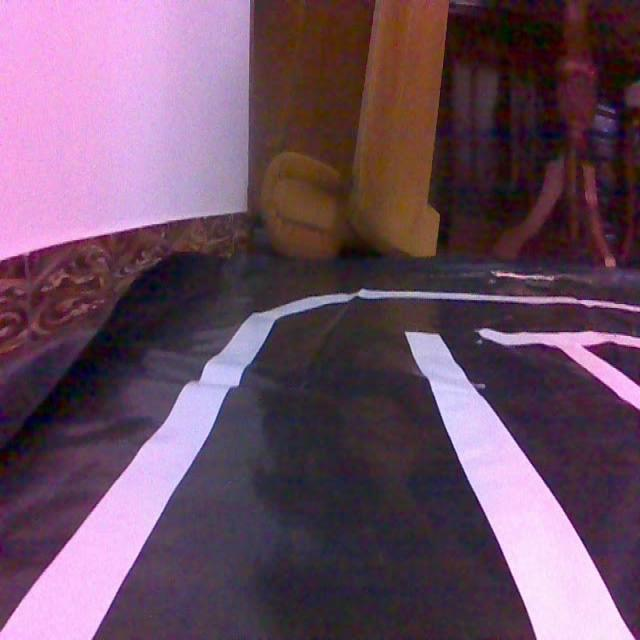LineaCarril: (0, 290, 600, 638), (407, 332, 632, 638), (479, 331, 640, 409)
